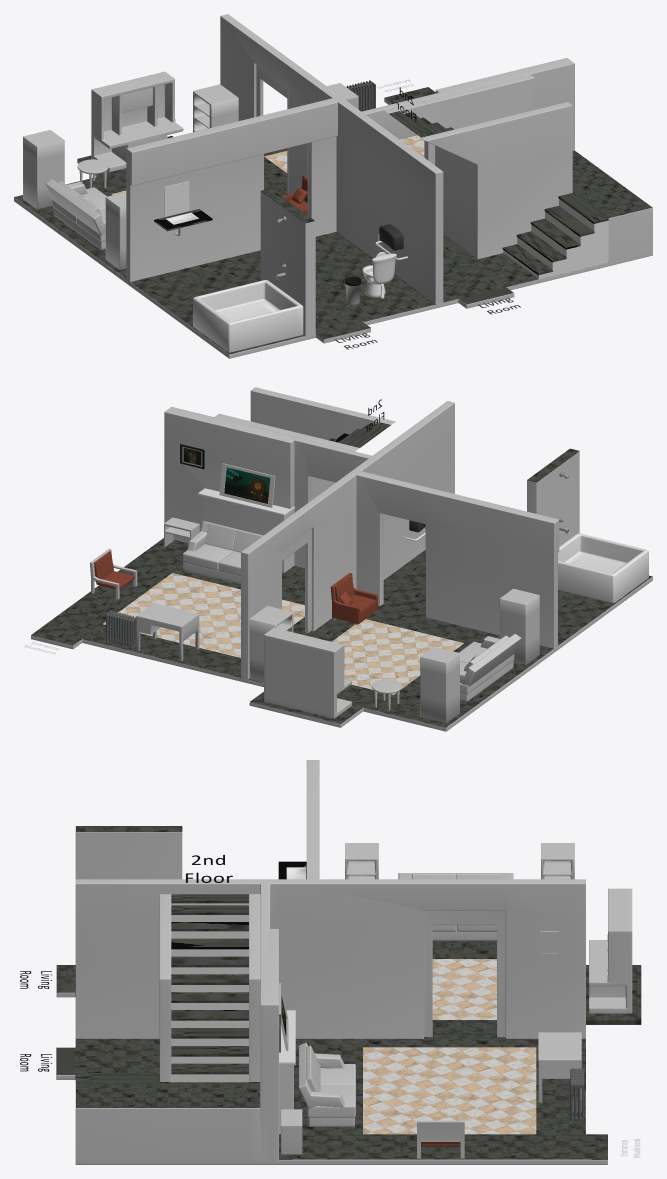
Rendered from ODL_Rooms.gltf.
3 views of the same model, one above another, from view 1: azimuth 30°, elevation 25°; view 2: azimuth 150°, elevation 25°; view 3: azimuth 270°, elevation 25° (orthographic). The views are drawn at different scales.
Visible parts, largest first — view 1: Cube, Cube.015, Cube.040, Plane.002, Cube.017, Cube.031, Cube.072, Cube.058, Cube.039, Cube.041, Plane.003, Cube.042 (+3 smaller); view 2: Cube, Cube.015, Cube.040, Cube.017, Cube.072, Cube.010, Cube.007, Cube.031, Cube.058, Cube.024, Cube.011, Cube.003 (+7 smaller); view 3: Cube, Plane.003, Cube.015, Cube.010, Cube.004, Cube.017, Cube.072, Cube.043, Cube.003, Cube.005, Plane.002, Cube.011 (+3 smaller).
Part boxes in pixels (x1,y1,x2,y2): Cube: (14,14,652,358); Cube.015: (91,71,183,172); Cube.040: (193,280,303,352); Plane.002: (502,193,608,279); Cube.017: (23,130,64,209); Cube.031: (193,84,238,132); Cube.072: (105,192,126,269); Cube.058: (45,179,105,235); Cube.039: (362,253,396,297); Cube.041: (164,181,189,216); Plane.003: (389,111,453,137); Cube.042: (154,209,212,231); Cube: (31,387,652,731); Cube.015: (264,627,351,718); Cube.040: (558,533,648,602); Cube.017: (420,647,459,722); Cube.072: (499,588,539,664); Cube.010: (136,603,199,661); Cube.007: (219,463,275,507); Cube.031: (249,606,293,682); Cube.058: (460,633,521,686); Cube.024: (330,573,377,623); Cube.011: (106,610,136,650); Cube.003: (183,543,233,570); Cube: (56,760,641,1164); Plane.003: (171,894,248,1082); Cube.015: (589,888,632,1013); Cube.010: (538,1032,581,1102); Cube.004: (298,1042,344,1108); Cube.017: (541,843,574,879); Cube.072: (345,843,378,879); Cube.043: (417,1120,464,1158); Cube.003: (307,1085,355,1117); Cube.005: (281,1109,302,1154); Plane.002: (75,1074,159,1082); Cube.011: (570,1068,584,1120).
Bounding box in the file's own units: 16.21 × 6.3 × 17.87.
